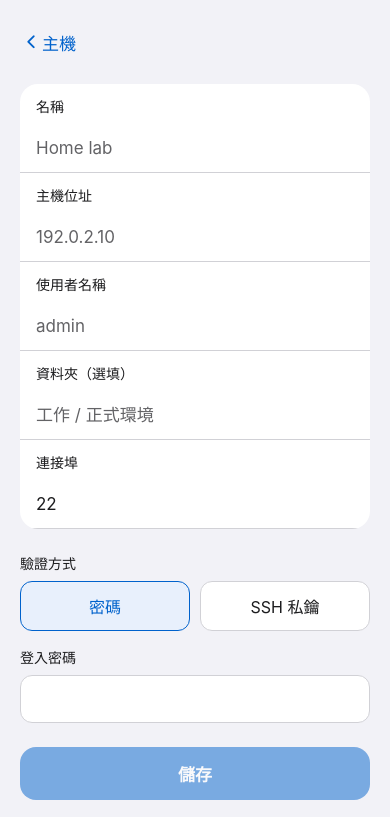
Test: 新增主機可選密碼或 SSH 私鑰驗證
Expected: the radio button labelled "密碼" is shown, [20,581,190,631]
Expected: the password field named "登入密碼" is shown, [20,675,370,723]
Click the radio button labelled "SSH 私鑰" at point(285, 606), box [200,581,370,631]
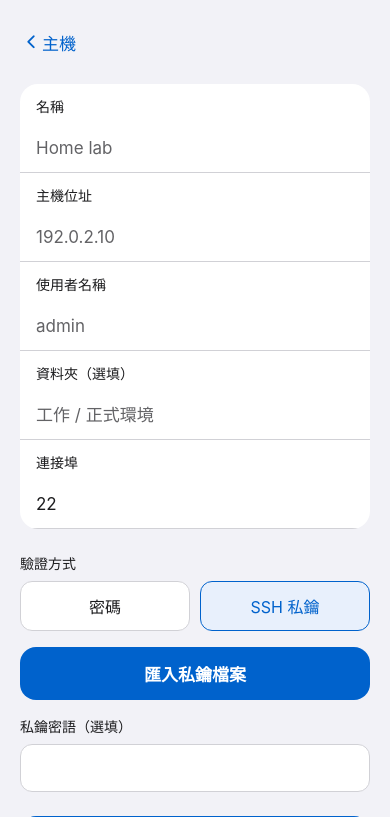
Expected: the text labelled "登入密碼" is gone
Expected: the button "匯入私鑰檔案" is shown, [20,647,370,700]
Expected: the password field named "私鑰密語（選填）" is shown, [20,744,370,792]
